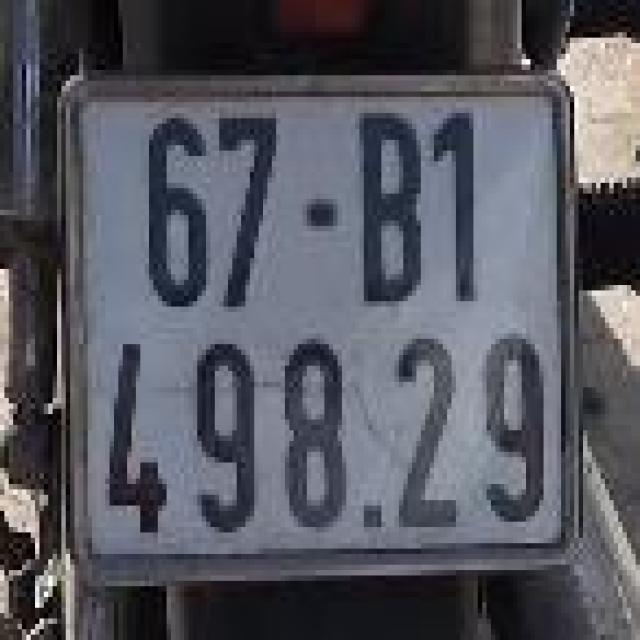1: (428, 105, 493, 309)
2: (392, 328, 462, 533)
4: (103, 336, 173, 541)
6: (144, 113, 210, 306)
7: (214, 113, 280, 317)
8: (274, 331, 353, 535)
9: (191, 336, 265, 535), (478, 325, 548, 530)
B: (358, 110, 428, 309)
